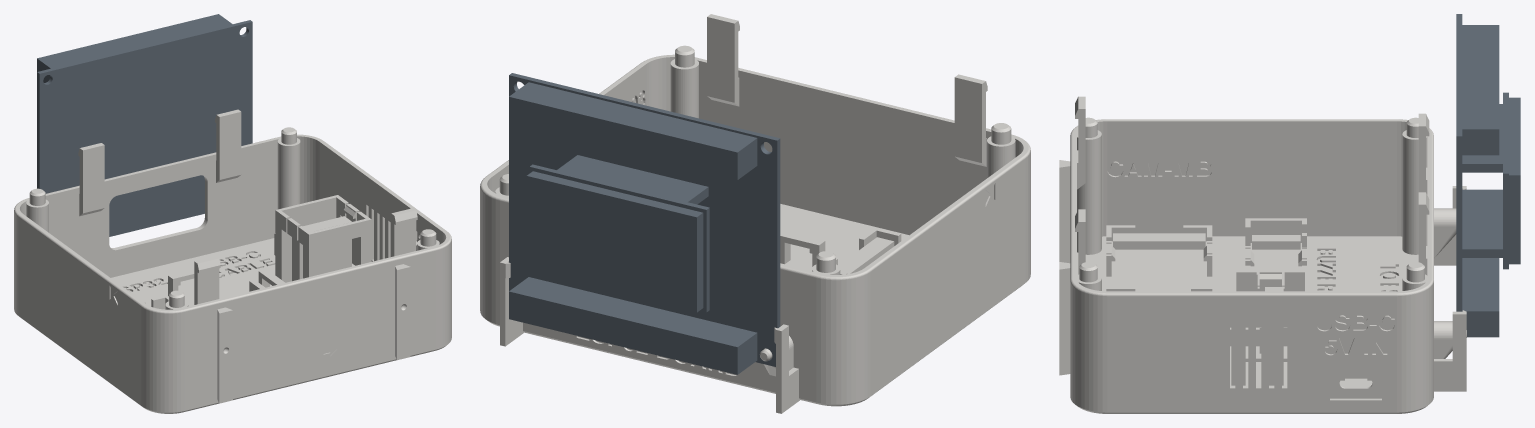
Rendered from w1_board.glb.
The picture shows the model from 3 angles, left to right: view 1: azimuth 30°, elevation 25°; view 2: azimuth 150°, elevation 25°; view 3: azimuth 270°, elevation 25°; orthographic projection. The views are drawn at different scales.
Parts seen in each view (by area): view 1: 01_base_bay, ESP32_38-pin_breakout_+_DevKit; view 2: 01_base_bay, ESP32_38-pin_breakout_+_DevKit; view 3: 01_base_bay, ESP32_38-pin_breakout_+_DevKit.
Part boxes in pixels (bbox=[...]): 01_base_bay: bbox=[14, 109, 451, 413]; ESP32_38-pin_breakout_+_DevKit: bbox=[37, 14, 252, 236]; 01_base_bay: bbox=[480, 14, 1030, 413]; ESP32_38-pin_breakout_+_DevKit: bbox=[509, 73, 780, 374]; 01_base_bay: bbox=[1059, 96, 1466, 413]; ESP32_38-pin_breakout_+_DevKit: bbox=[1456, 14, 1520, 337].
Bounding box in the file's own units: 0.112 × 0.075 × 0.1244.
